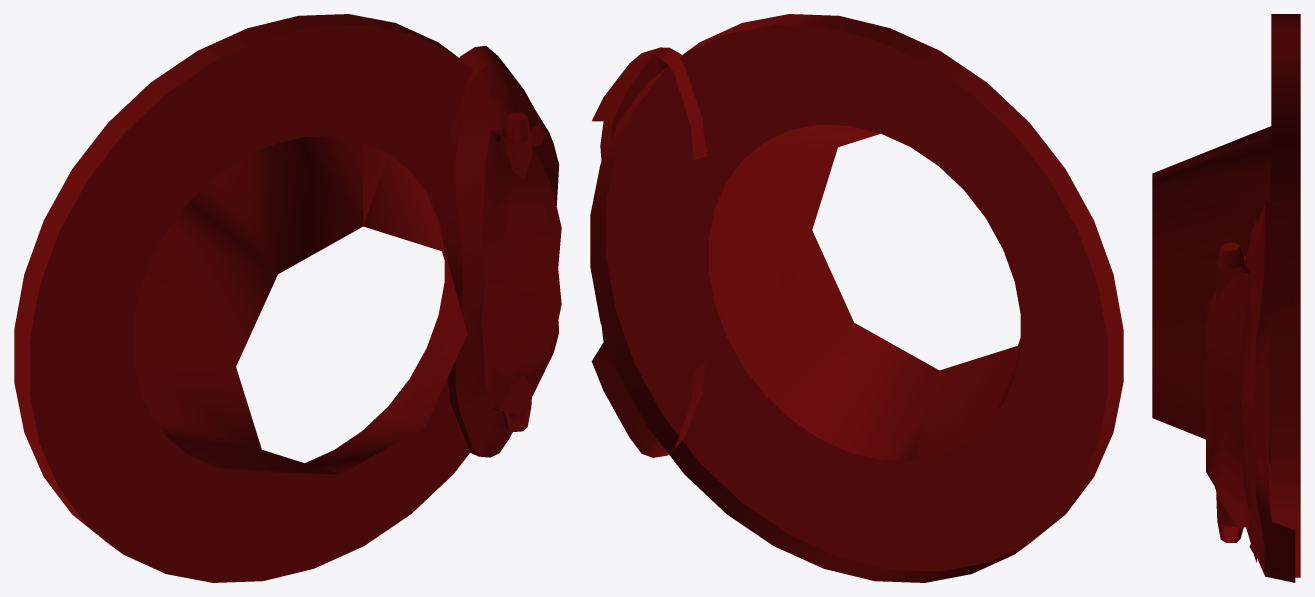
File: PalladiumX_Brakes_Perf_F.glb
3 views of the same model, side by side, from view 1: azimuth 30°, elevation 25°; view 2: azimuth 150°, elevation 25°; view 3: azimuth 270°, elevation 25° (orthographic). The views are drawn at different scales.
Parts seen in each view (by area): view 1: Rotor_Std_F2, Caliper_Std_F2; view 2: Rotor_Std_F2, Caliper_Std_F2; view 3: Rotor_Std_F2, Caliper_Std_F2.
Boxes of the visible parts, x1,y1,x2,y2 form: Rotor_Std_F2: (14, 14, 473, 582); Caliper_Std_F2: (445, 46, 561, 457); Rotor_Std_F2: (590, 14, 1123, 582); Caliper_Std_F2: (591, 47, 707, 457); Rotor_Std_F2: (1152, 14, 1300, 577); Caliper_Std_F2: (1206, 199, 1295, 582).
Bounding box in the file's own units: 0.3724 × 0.3676 × 0.0969.
